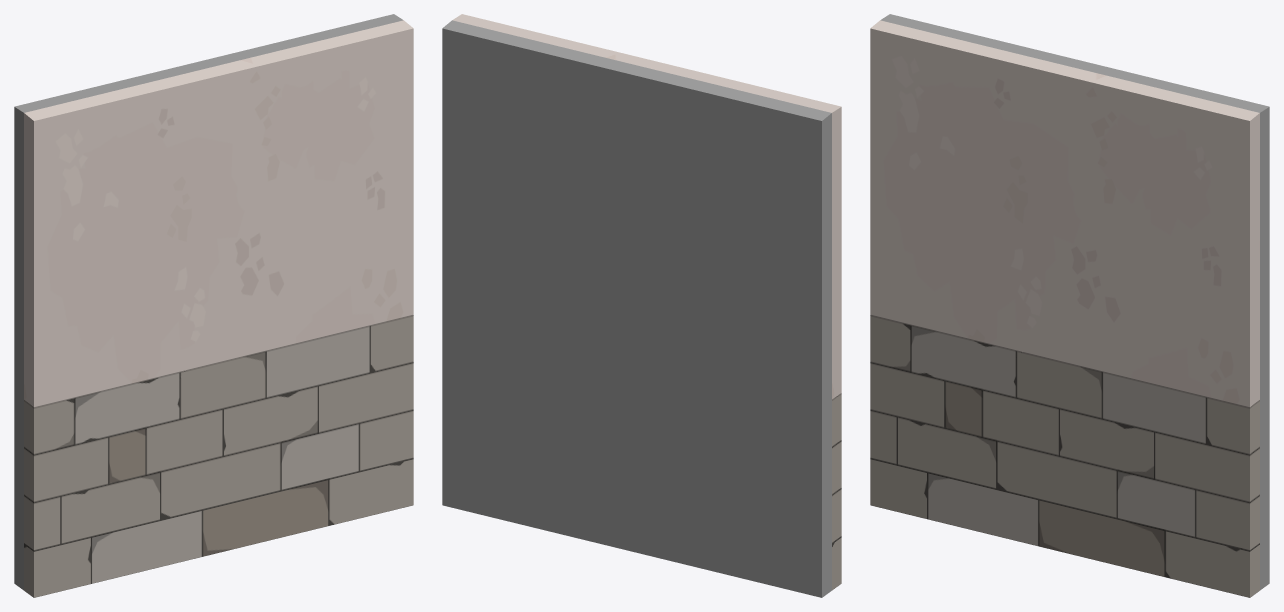
The model's file is SM_Bld_Wall_01.fbx.
3 renders of one model, left to right at view 1: azimuth 30°, elevation 25°; view 2: azimuth 150°, elevation 25°; view 3: azimuth 330°, elevation 25°, orthographic.
Visible parts, largest first — view 1: SM_Bld_Wall_01; view 2: SM_Bld_Wall_01; view 3: SM_Bld_Wall_01.
Boxes of the visible parts, x1=… form: SM_Bld_Wall_01: x1=14, y1=14, x2=413, y2=597; SM_Bld_Wall_01: x1=442, y1=14, x2=841, y2=597; SM_Bld_Wall_01: x1=870, y1=14, x2=1269, y2=597.
Bounding box in the file's own units: 250 × 301 × 22.5.
